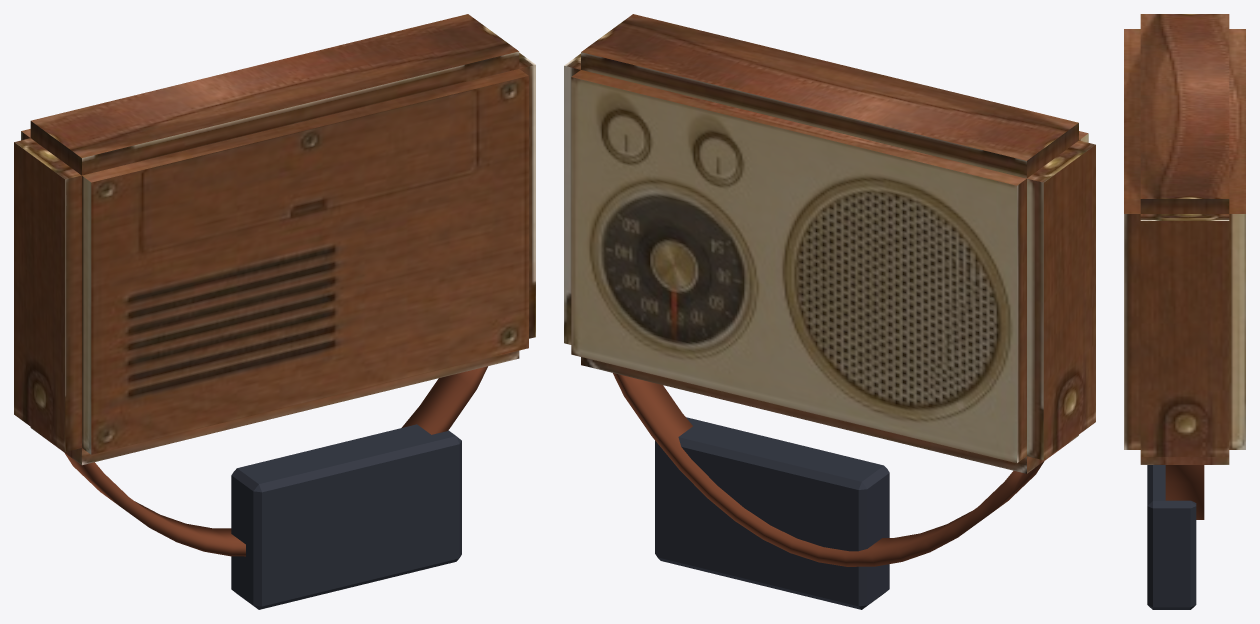
Rendered from riko.glb.
3 renders of one model, left to right at view 1: azimuth 30°, elevation 25°; view 2: azimuth 150°, elevation 25°; view 3: azimuth 270°, elevation 25°, orthographic. The views are drawn at different scales.
Parts seen in each view (by area): view 1: radio, phone; view 2: radio, phone; view 3: radio, phone.
Boxes of the visible parts, left/top/right/bottom form: radio: left=14, top=14, right=535, bottom=556; phone: left=231, top=424, right=461, bottom=609; radio: left=564, top=14, right=1095, bottom=566; phone: left=655, top=417, right=889, bottom=609; radio: left=1124, top=14, right=1245, bottom=519; phone: left=1147, top=465, right=1196, bottom=609.
Bounding box in the file's own units: 0.17 × 0.1732 × 0.044.
3 materials, 1 textured.
